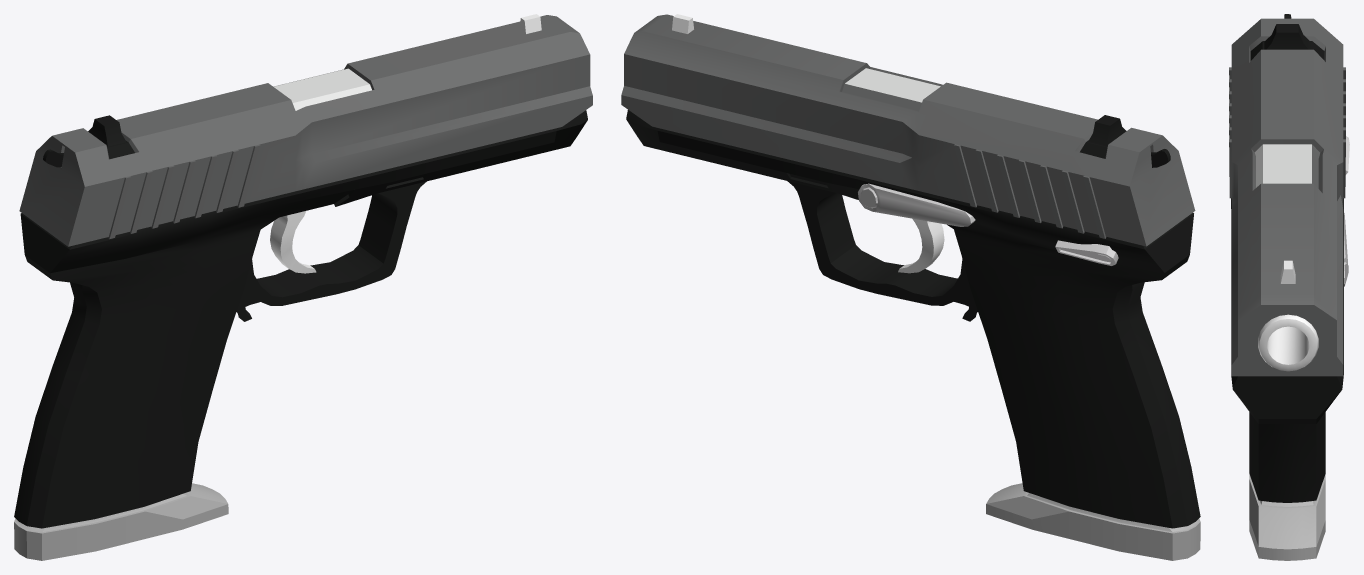
Rendered from HK_USP_Mesh.fbx.
3 views of the same model, side by side, from view 1: azimuth 30°, elevation 25°; view 2: azimuth 150°, elevation 25°; view 3: azimuth 270°, elevation 25° (orthographic). The views are drawn at different scales.
Visible parts, largest first — view 1: HK_USP; view 2: HK_USP; view 3: HK_USP.
Boxes of the visible parts, x1,y1,x2,y2 form: HK_USP: (14, 14, 592, 560); HK_USP: (621, 14, 1200, 560); HK_USP: (1229, 14, 1349, 560).
Size of the model in its own units: 0.3113 by 0.2206 by 0.0513.
